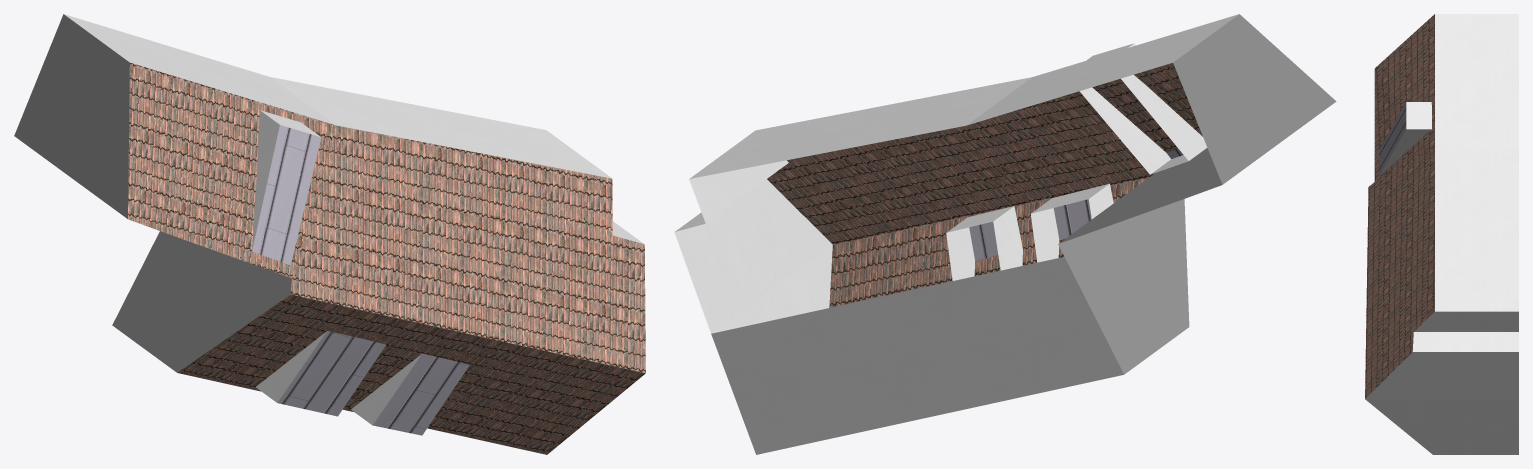
File: Lai_36_a2.obj
3 views of the same model, side by side, from view 1: azimuth 30°, elevation 25°; view 2: azimuth 150°, elevation 25°; view 3: azimuth 270°, elevation 25° (orthographic). The views are drawn at different scales.
Parts seen in each view (by area): view 1: Lai_36_a2; view 2: Lai_36_a2; view 3: Lai_36_a2.
Boxes of the visible parts, x1,y1,x2,y2 form: Lai_36_a2: [14, 14, 645, 454]; Lai_36_a2: [674, 14, 1336, 454]; Lai_36_a2: [1365, 14, 1518, 454].
Bounding box in the file's own units: 19.6 × 16.88 × 7.54.
